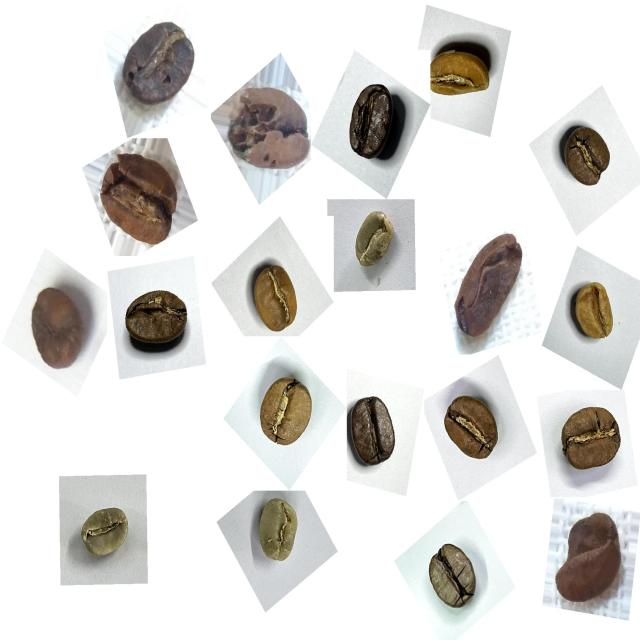bad: (90, 140, 186, 258), (445, 220, 531, 350), (220, 75, 314, 184), (111, 10, 203, 116), (546, 506, 632, 618), (17, 273, 94, 379)
dark: (338, 74, 413, 172), (417, 535, 487, 620), (346, 385, 408, 476)
green: (247, 492, 312, 576), (70, 493, 139, 572), (345, 202, 405, 282)
light: (423, 29, 502, 113), (243, 254, 310, 338), (562, 271, 625, 352)
medium: (247, 368, 324, 461), (550, 396, 630, 484), (116, 276, 196, 364), (434, 384, 508, 474), (552, 119, 620, 200)
